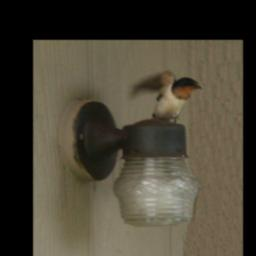Swallow: (128, 69, 202, 123)
